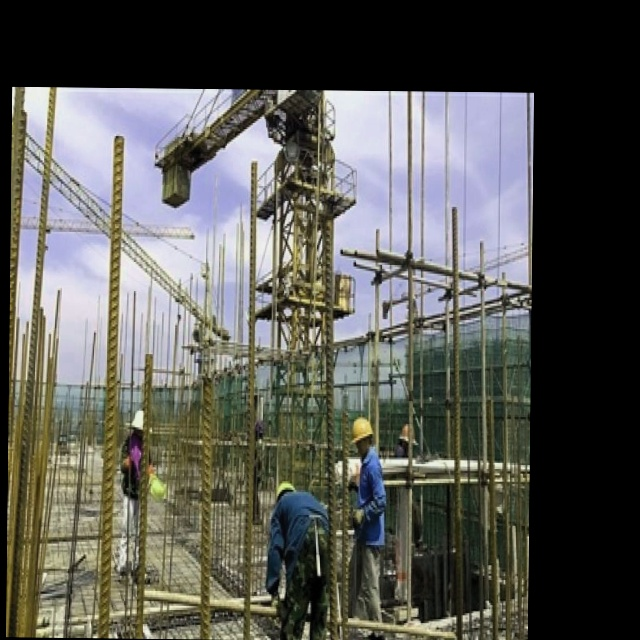Con_Casco: (352, 415, 374, 455)
